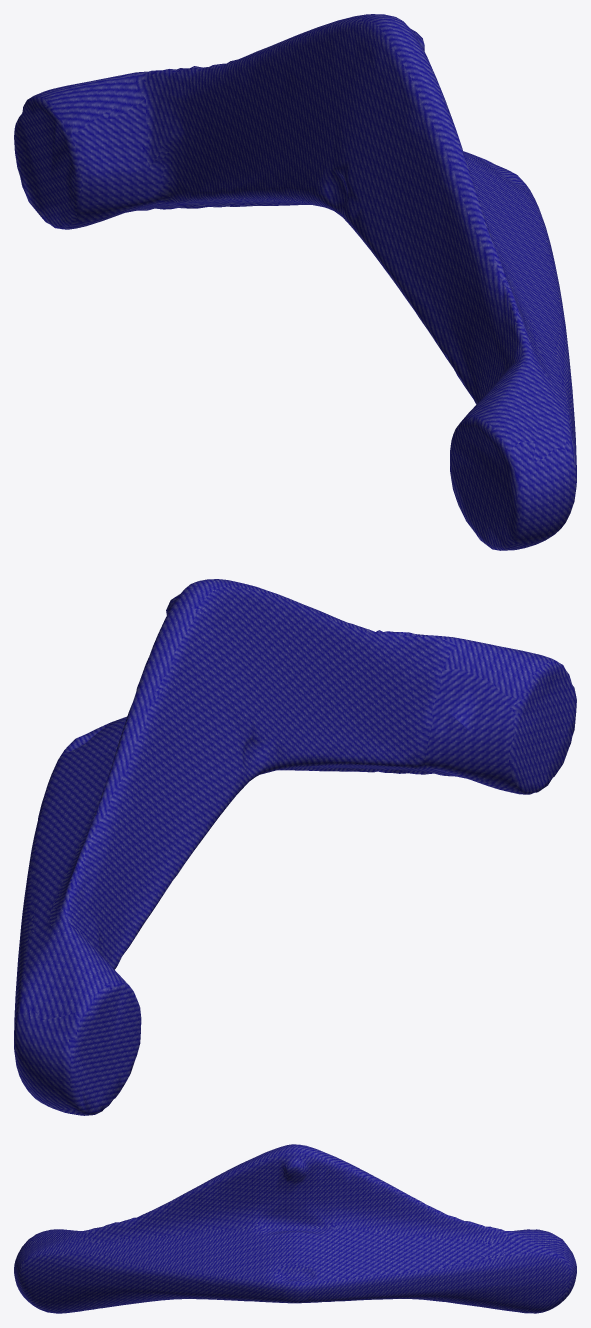
The model's file is Rocker_lowPoly-Blender-280.dae.
3 views of the same model, one above another, from view 1: azimuth 30°, elevation 25°; view 2: azimuth 150°, elevation 25°; view 3: azimuth 270°, elevation 25° (orthographic). The views are drawn at different scales.
Visible parts, largest first — view 1: Model.001; view 2: Model.001; view 3: Model.001.
Part boxes in pixels (x1,y1,x2,y2): Model.001: (14, 14, 576, 550); Model.001: (14, 579, 576, 1115); Model.001: (14, 1144, 576, 1313).
Size of the model in its own units: 0.2386 by 0.8135 by 0.2992.
1 material, 1 textured.
